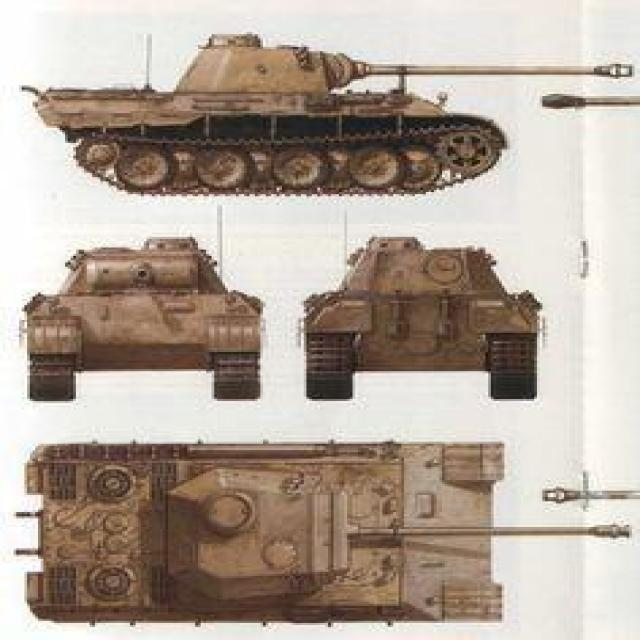Tanks: (19, 438, 513, 628), (34, 11, 517, 192), (300, 206, 541, 419), (18, 233, 275, 420)
